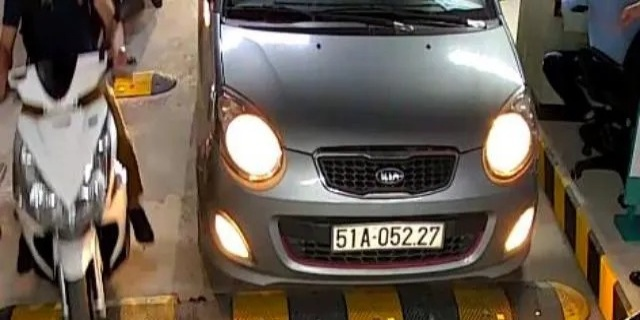bien_so: (333, 224, 443, 249)
